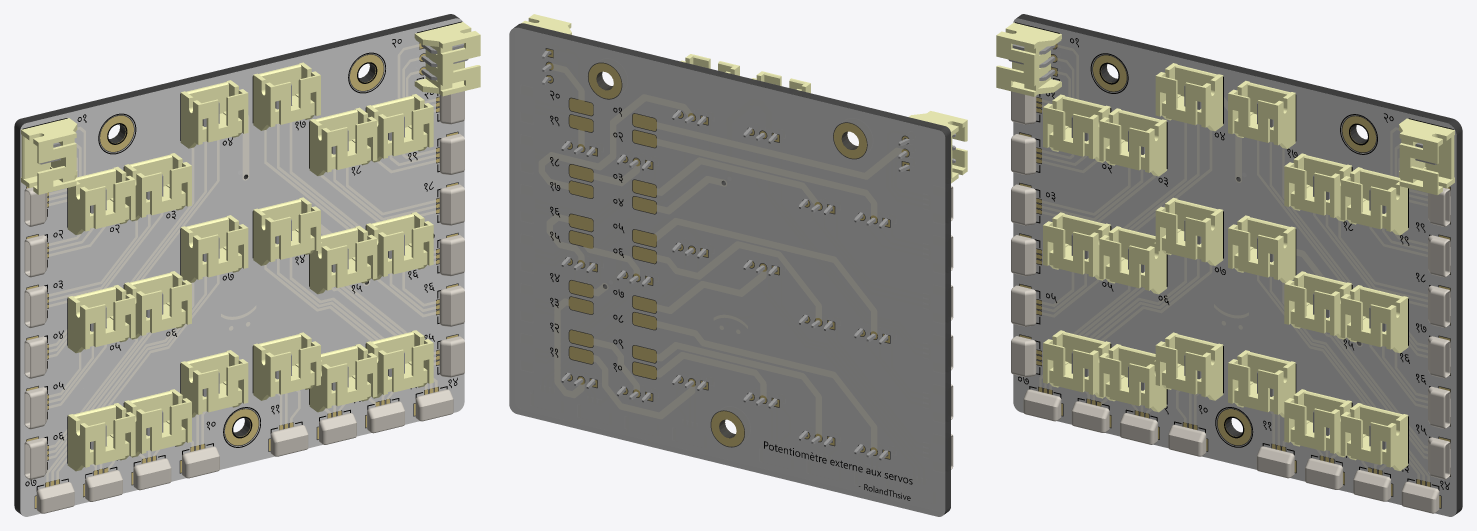
The model's file is main_connnections_board_assembled.glb.
3 renders of one model, left to right at view 1: azimuth 30°, elevation 25°; view 2: azimuth 150°, elevation 25°; view 3: azimuth 330°, elevation 25°, orthographic.
Visible parts, largest first — view 1: Shape_4, Shape, Shape_2, Shape_1, Body1082, Body1050, Body1002, Body1018, Body1073, Body1091, Body1083, Body1099 (+34 smaller); view 2: Shape_7, Shape, Shape_5, Shape_6, Shape_1, Shape_9, Body1050, Body1057; view 3: Shape_4, Shape, Shape_2, Shape_1, Body1074, Body1073, Body1098, Body1091, Body1058, Body1057, Body1065, Body1042 (+34 smaller).
Part boxes in pixels (x1,y1,x2,y2): Shape_4: (20, 18, 464, 516); Shape: (20, 18, 463, 516); Shape_2: (46, 43, 437, 496); Shape_1: (14, 14, 459, 514); Body1082: (309, 107, 377, 175); Body1050: (21, 118, 77, 194); Body1002: (67, 403, 135, 471); Body1018: (67, 285, 135, 353); Body1073: (180, 80, 248, 148); Body1091: (180, 215, 248, 282); Body1083: (253, 197, 320, 265); Body1099: (253, 332, 320, 400); Shape_7: (509, 27, 945, 516); Shape: (510, 27, 944, 516); Shape_5: (539, 48, 909, 458); Shape_6: (569, 98, 656, 379); Shape_1: (514, 23, 950, 514); Shape_9: (550, 90, 912, 500); Body1050: (909, 111, 967, 183); Body1057: (521, 14, 571, 34); Shape_4: (1013, 18, 1456, 516); Shape: (1014, 18, 1456, 516); Shape_2: (1039, 44, 1429, 484); Shape_1: (1016, 14, 1462, 514); Body1074: (1340, 285, 1408, 353); Body1073: (1155, 63, 1223, 131); Body1098: (1155, 332, 1223, 400); Body1091: (1155, 197, 1223, 265); Body1058: (1340, 403, 1408, 470); Body1057: (1399, 118, 1454, 195); Body1065: (1228, 80, 1295, 148); Body1042: (1099, 108, 1166, 176).
Size of the model in its own units: 70 by 59.35 by 8.2.
